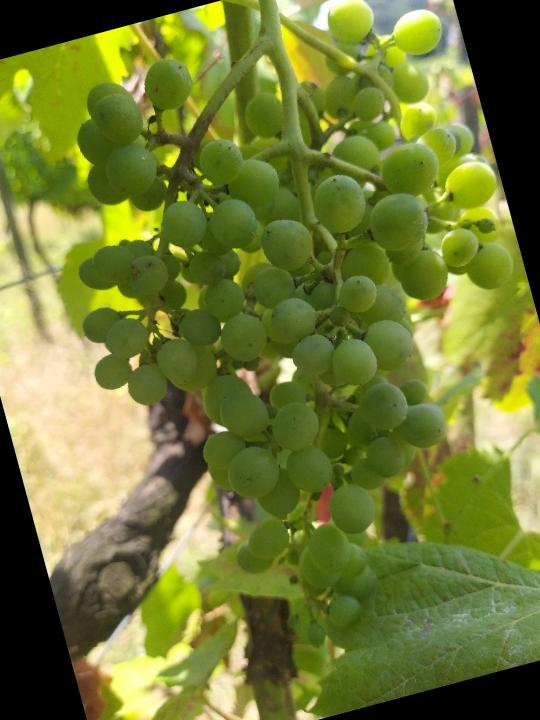grape: (17, 0, 540, 693)
